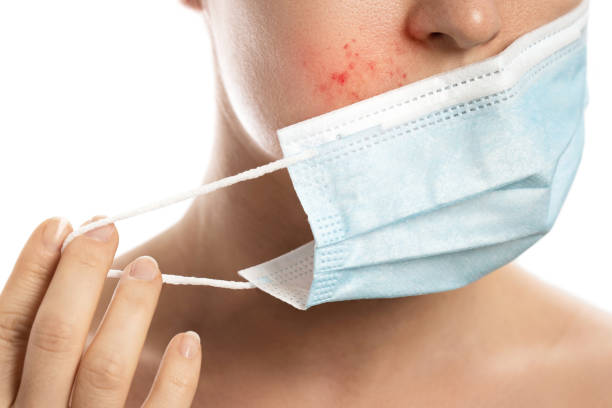with mask: (168, 1, 596, 317)
